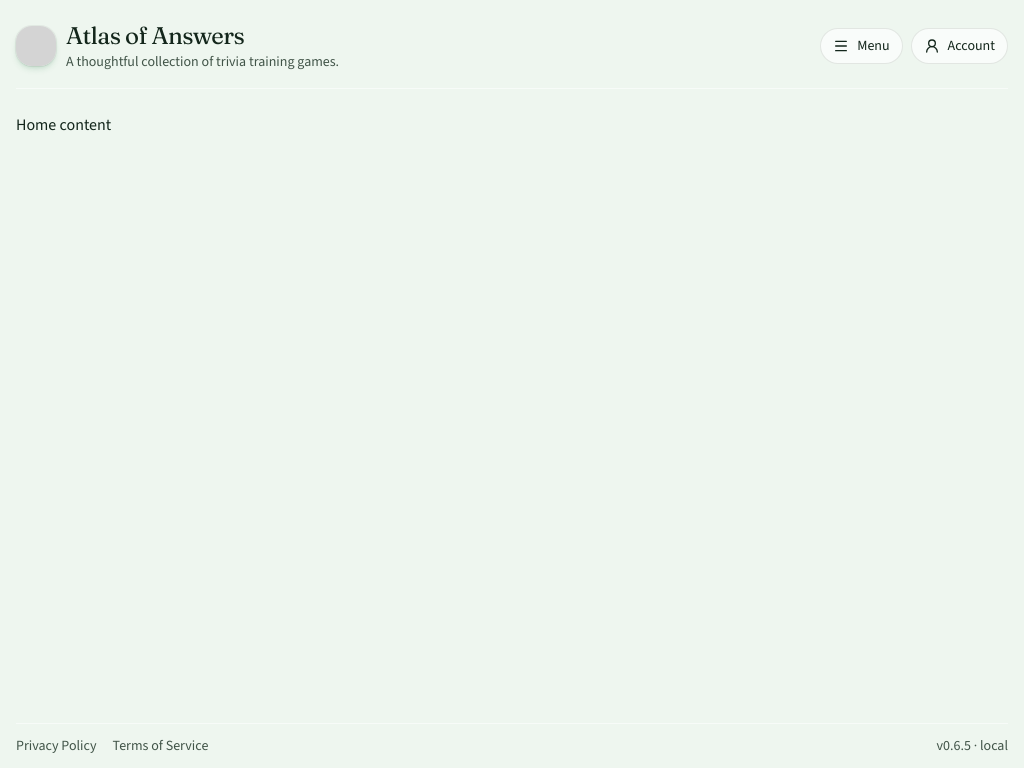
Scenario: AppShell privacy prompt › shows Offline in the header status menu when connectivity is down
Click the button "Menu".
click(861, 46)  # box [820, 28, 903, 64]
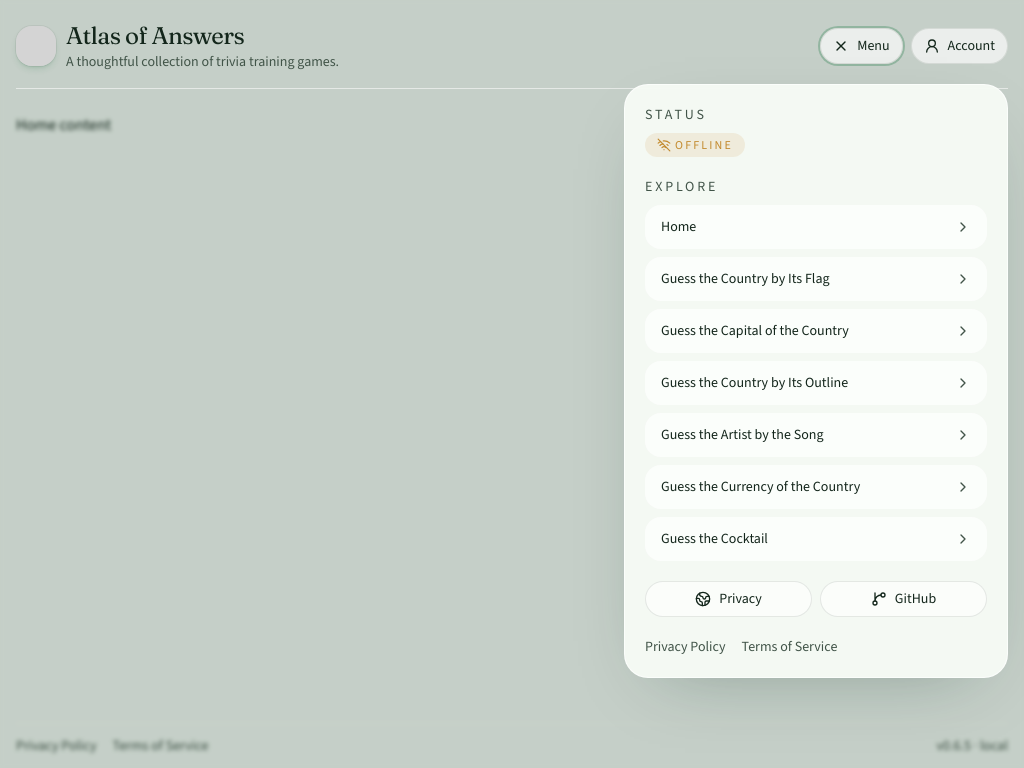
Expected: the text "Offline" is shown, [645, 133, 745, 157]
